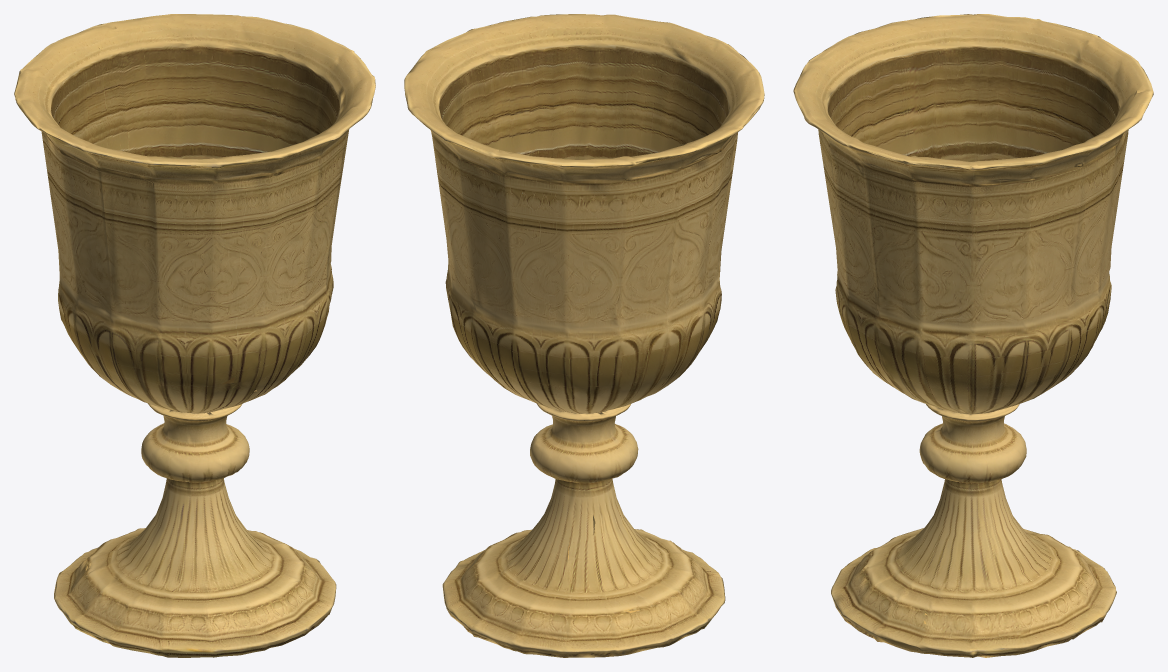
The model's file is Meshy_AI_Ornate_Golden_Chalice_0721143628_texture.fbx.
3 views of the same model, side by side, from view 1: azimuth 30°, elevation 25°; view 2: azimuth 150°, elevation 25°; view 3: azimuth 270°, elevation 25° (orthographic).
Parts seen in each view (by area): view 1: Mesh_0; view 2: Mesh_0; view 3: Mesh_0.
Boxes of the visible parts, bbox=[...] form: Mesh_0: bbox=[14, 14, 375, 657]; Mesh_0: bbox=[404, 14, 764, 657]; Mesh_0: bbox=[793, 14, 1153, 657].
Bounding box in the file's own units: 64.45 × 100 × 63.67.
Materials: 1 (1 with a texture image).
